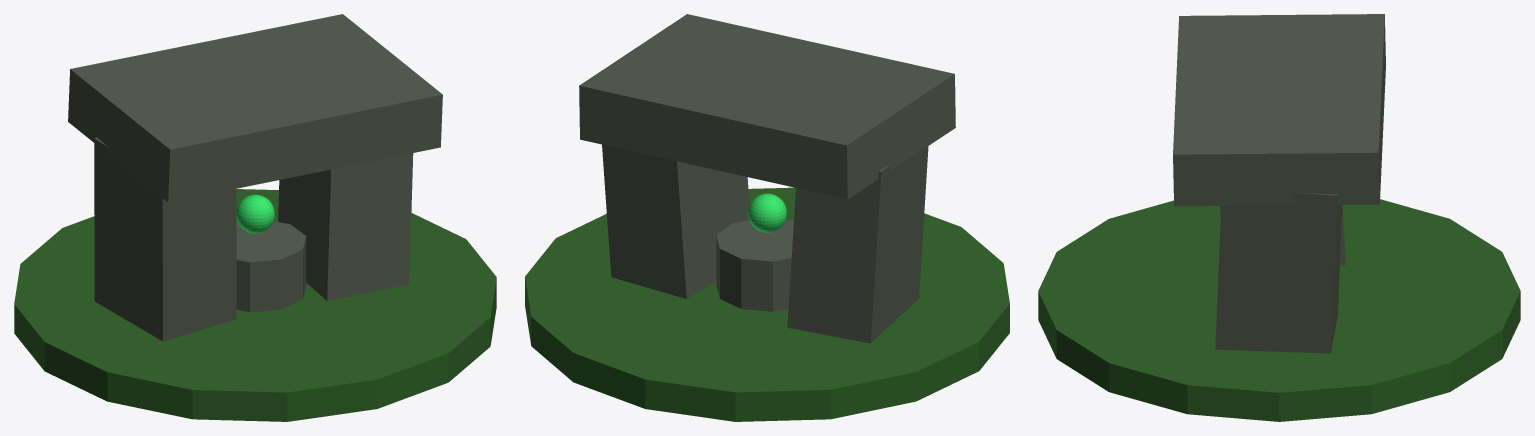
File: ancient_dolmen_shrine.obj
3 renders of one model, left to right at view 1: azimuth 30°, elevation 25°; view 2: azimuth 150°, elevation 25°; view 3: azimuth 270°, elevation 25°, orthographic.
Visible parts, largest first — view 1: Cylinder, Cube.002, Cube, Cube.001, Cylinder.001, Sphere; view 2: Cylinder, Cube.002, Cube, Cube.001, Cylinder.001, Sphere; view 3: Cylinder, Cube.002, Cube.001.
Boxes of the visible parts, x1,y1,x2,y2 form: Cylinder: [14, 189, 496, 421]; Cube.002: [68, 14, 442, 202]; Cube: [94, 137, 236, 341]; Cube.001: [278, 153, 413, 301]; Cylinder.001: [236, 221, 306, 312]; Sphere: [236, 194, 274, 233]; Cylinder: [525, 187, 1009, 421]; Cube.002: [579, 14, 955, 199]; Cube: [787, 146, 928, 343]; Cube.001: [602, 144, 749, 298]; Cylinder.001: [716, 220, 793, 311]; Sphere: [748, 193, 786, 232]; Cylinder: [1038, 199, 1520, 421]; Cube.002: [1173, 14, 1385, 206]; Cube.001: [1215, 192, 1342, 353].
Size of the model in its own units: 15 by 8.31 by 15.
